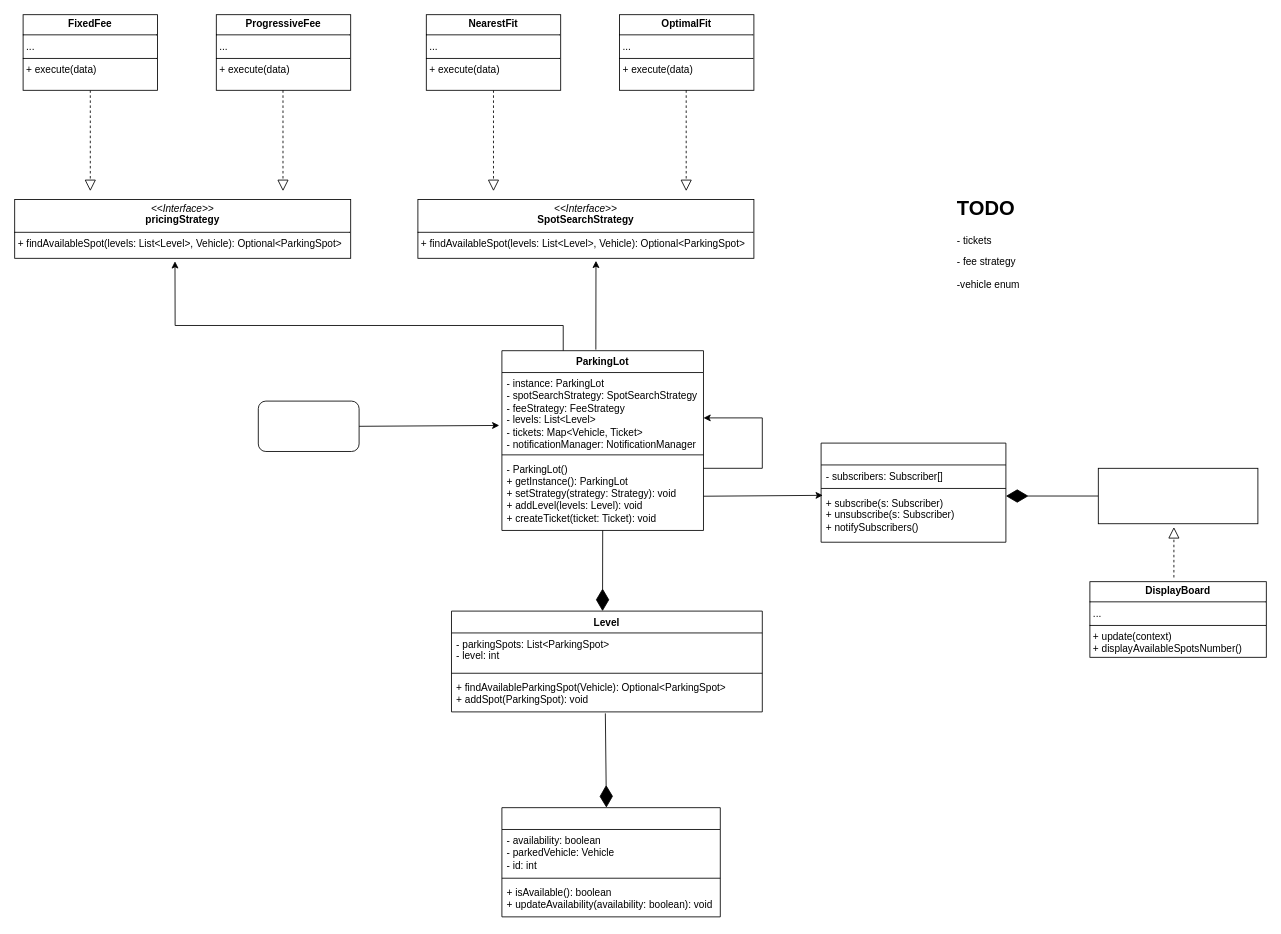
The diagram is 1281 pixels wide and 934 high, and some of its shapes have lost their labels. Here are the shapes that lost their labels. From the top down, the box of each, then its label:
(257, 400, 359, 452): Client
(820, 442, 1006, 542): NotificationManager
(1097, 467, 1258, 524): <<Interface>> Subscriber + update(context)
(501, 807, 720, 917): ParkingSpot
